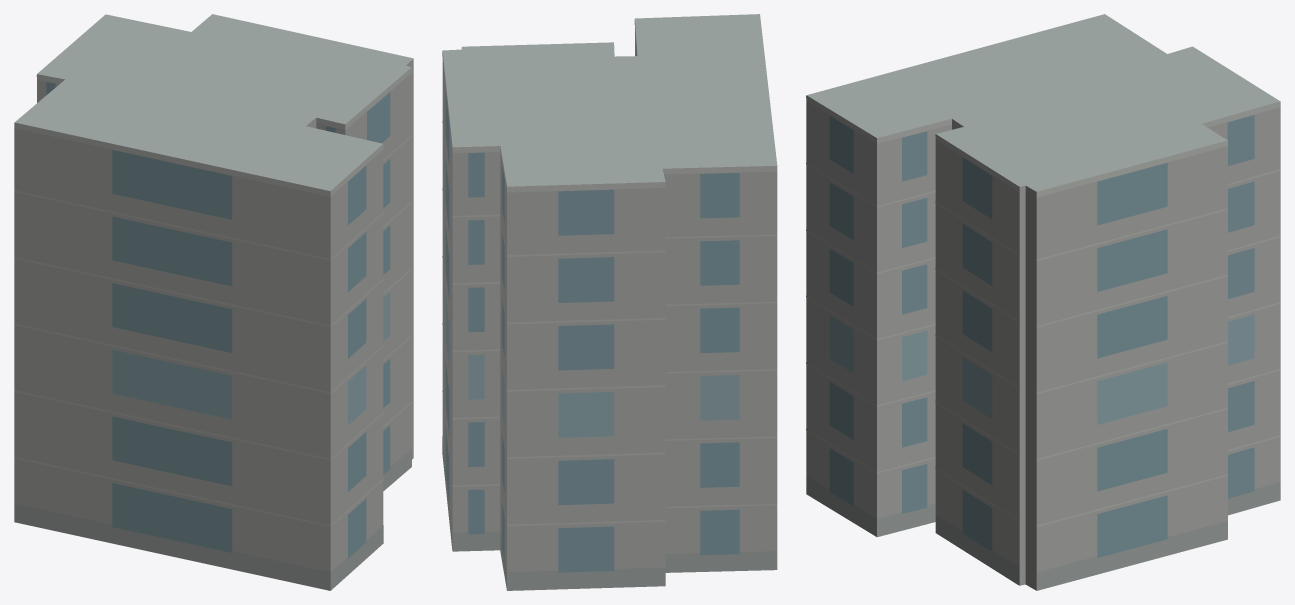
File: survey-upis-32561114.glb
The picture shows the model from 3 angles, left to right: view 1: azimuth 30°, elevation 25°; view 2: azimuth 150°, elevation 25°; view 3: azimuth 270°, elevation 25°; orthographic projection.
Visible parts, largest first — view 1: survey-upis-32561114.tmp; view 2: survey-upis-32561114.tmp; view 3: survey-upis-32561114.tmp.
Part boxes in pixels (<box>): survey-upis-32561114.tmp: <box>14,14,413,590</box>; survey-upis-32561114.tmp: <box>442,14,777,590</box>; survey-upis-32561114.tmp: <box>806,14,1280,590</box>.
Size of the model in its own units: 16.18 by 16.9 by 18.22.
